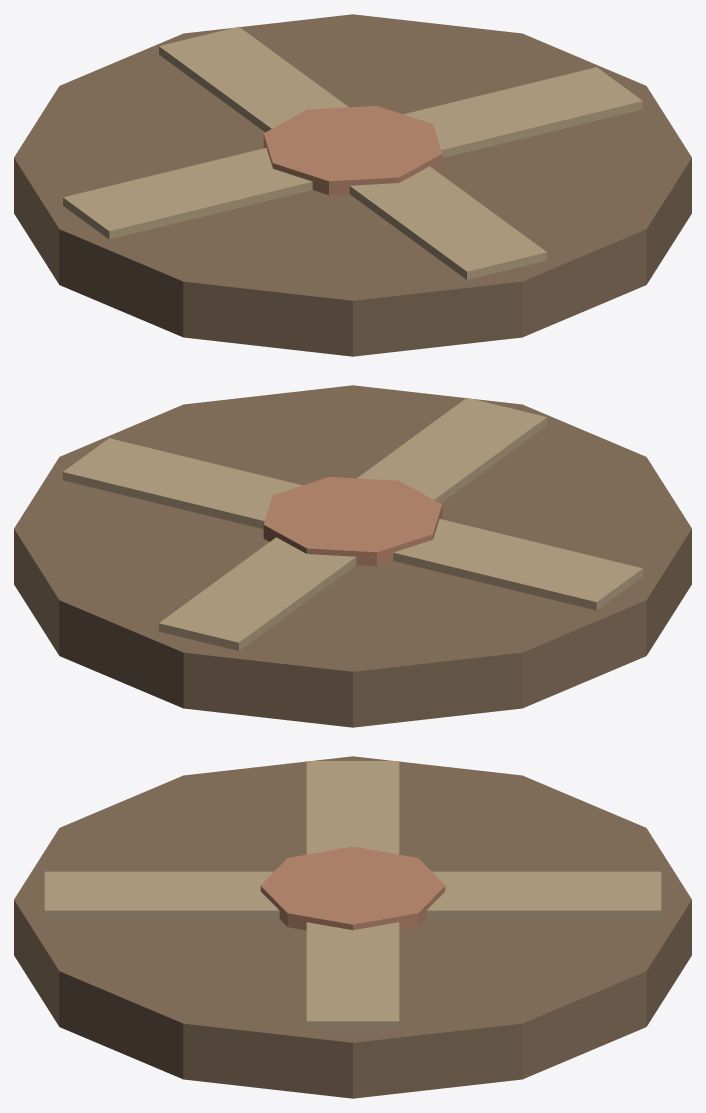
The model's file is mesa_descanso.glb.
The picture shows the model from 3 angles, top to bottom: view 1: azimuth 30°, elevation 25°; view 2: azimuth 150°, elevation 25°; view 3: azimuth 270°, elevation 25°; orthographic projection.
Visible parts, largest first — view 1: MESA_DESCANSO_v01; view 2: MESA_DESCANSO_v01; view 3: MESA_DESCANSO_v01.
Boxes of the visible parts, x1,y1,x2,y2 form: MESA_DESCANSO_v01: (14, 14, 691, 356); MESA_DESCANSO_v01: (14, 385, 691, 727); MESA_DESCANSO_v01: (14, 756, 691, 1098).
Size of the model in its own units: 0.22 by 0.025 by 0.22.
